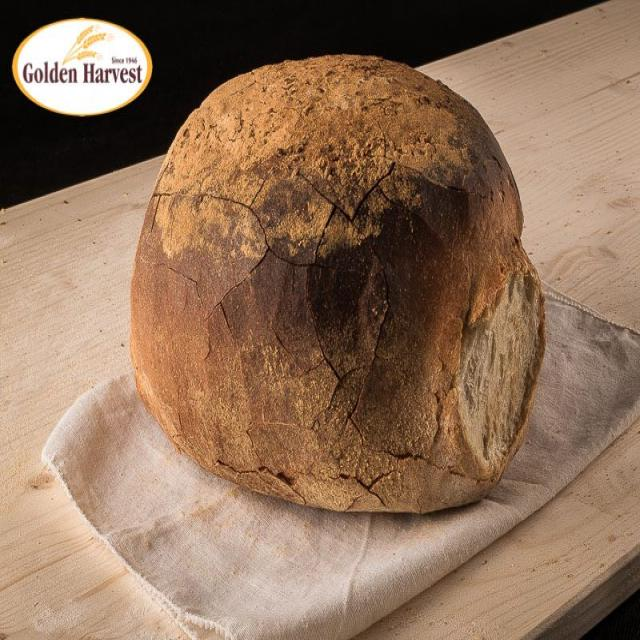Maltese-Bread: (131, 55, 554, 513)
